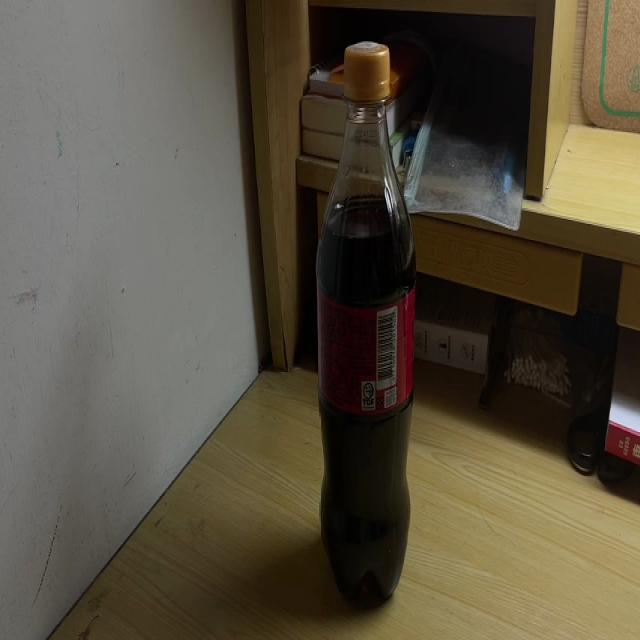Coca-Cola: (316, 40, 414, 609)
